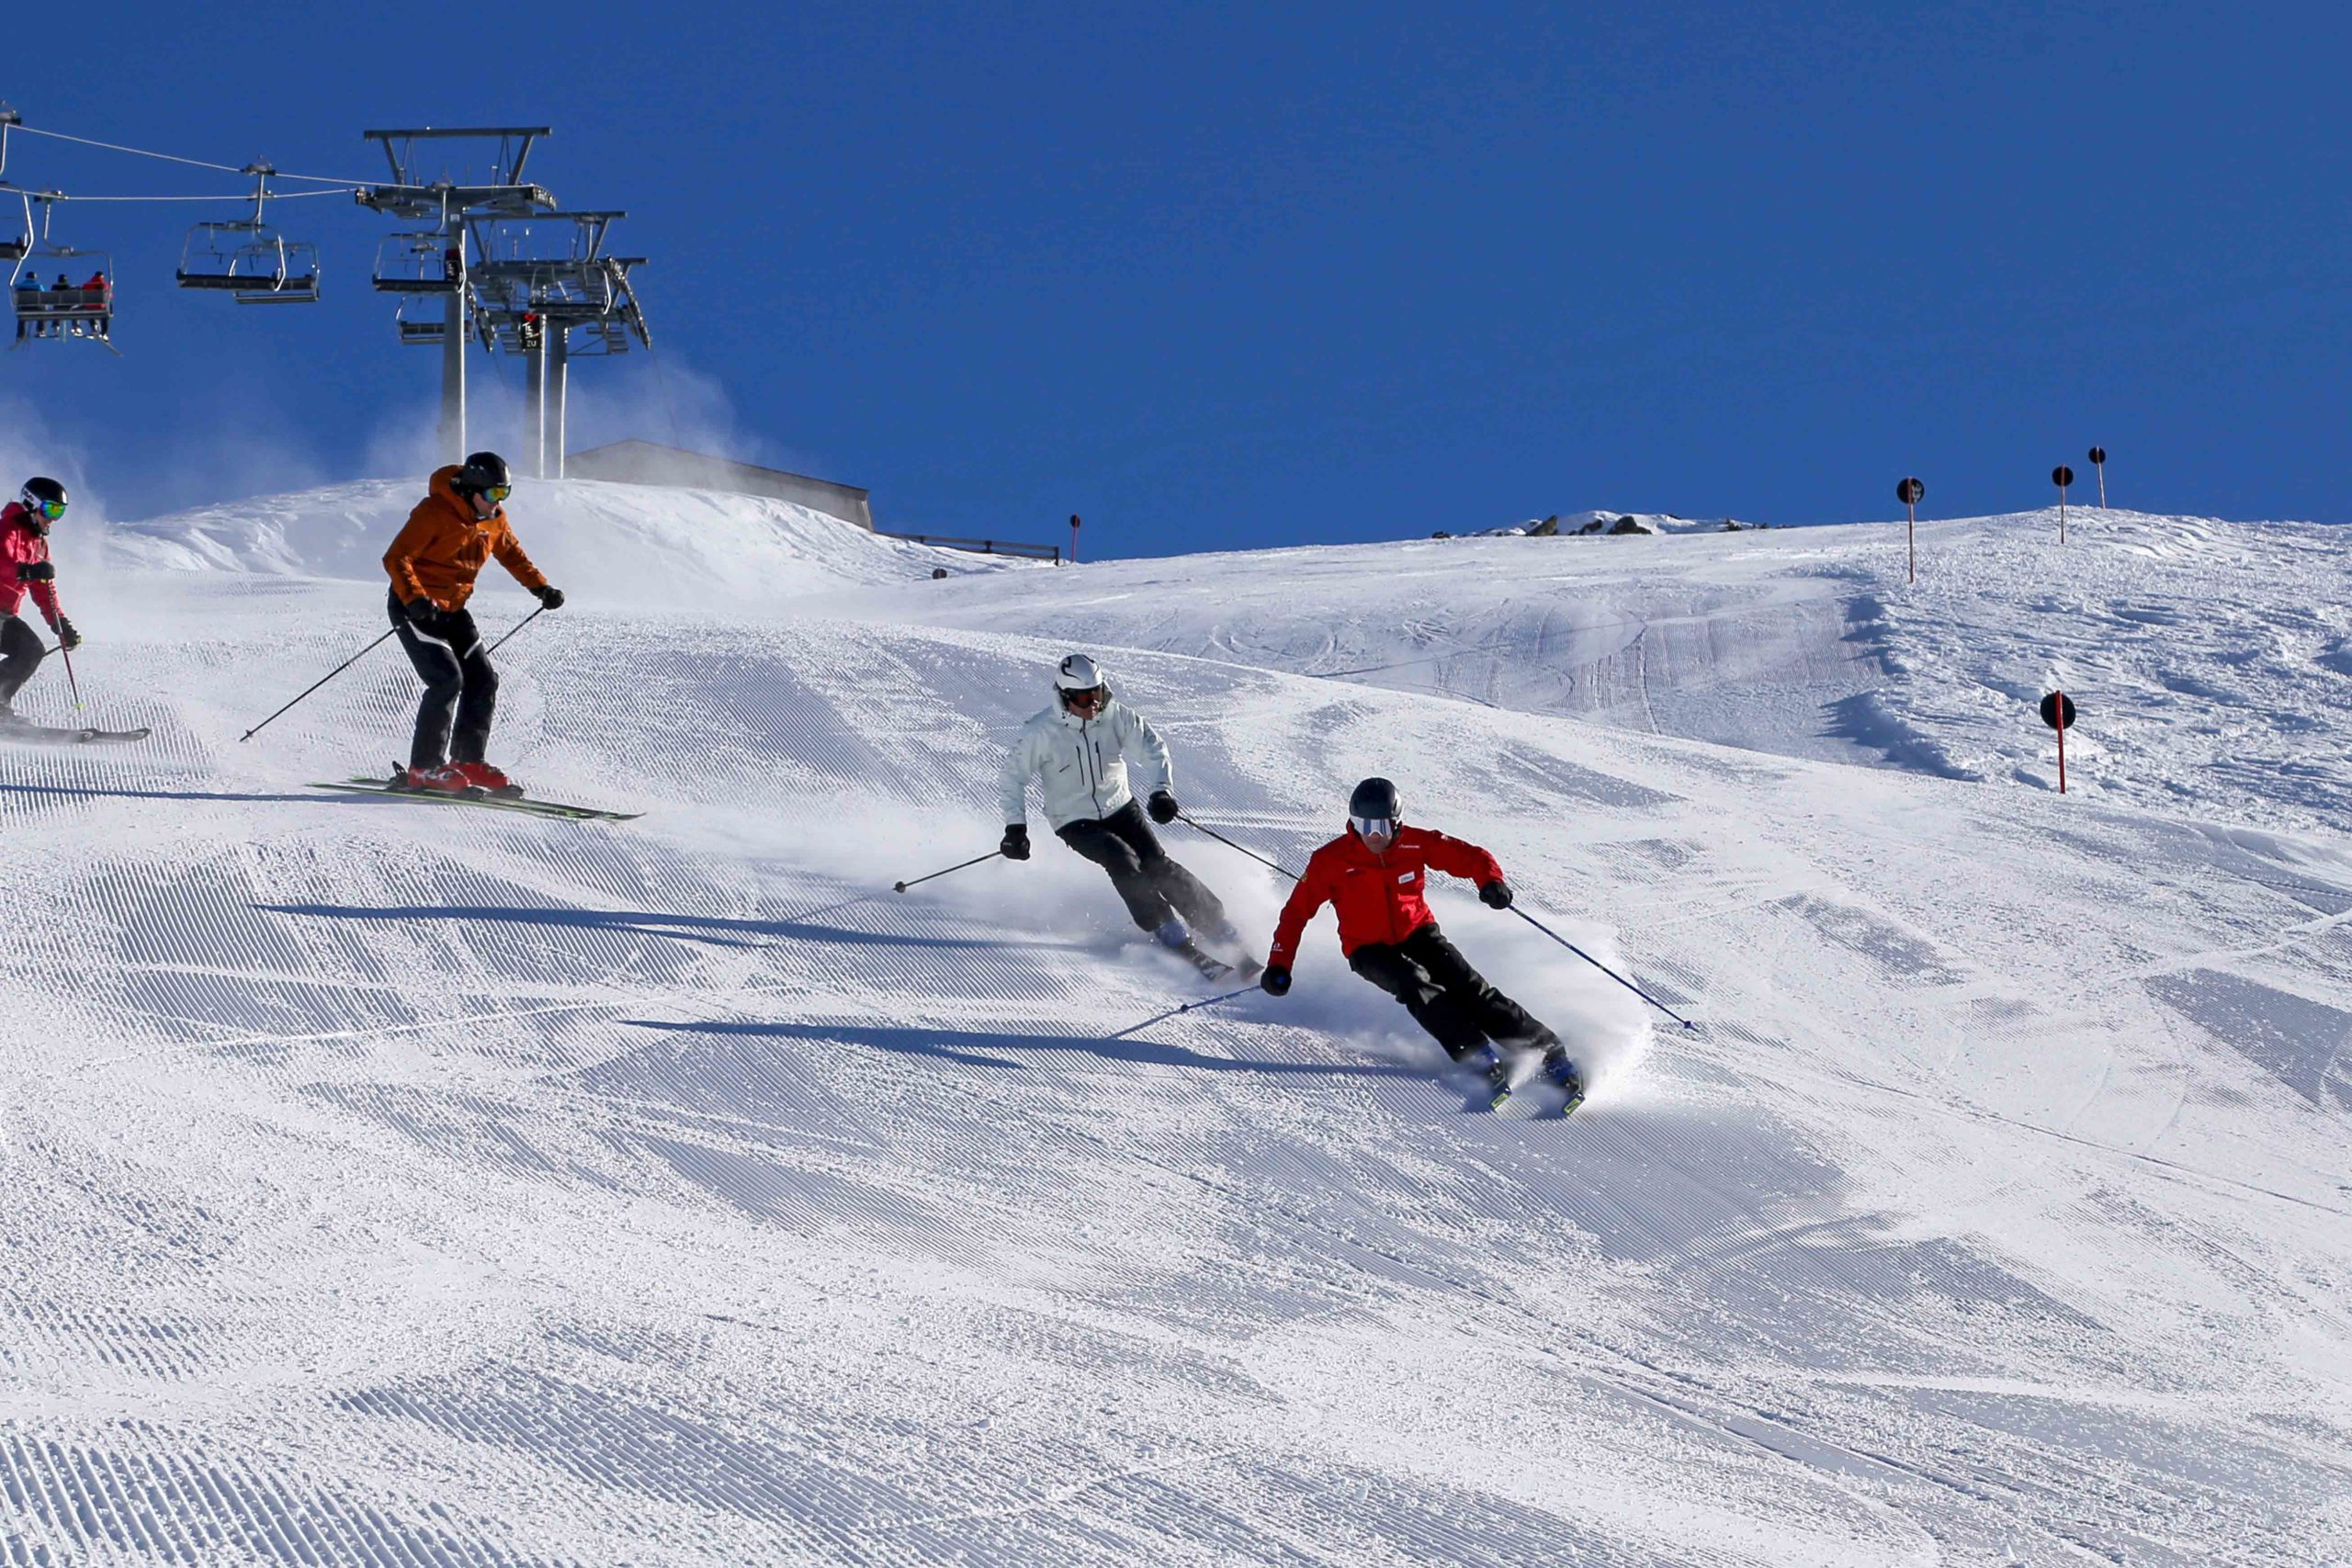skier: (231, 429, 657, 831), (1255, 758, 1711, 1130), (885, 642, 1287, 982)
